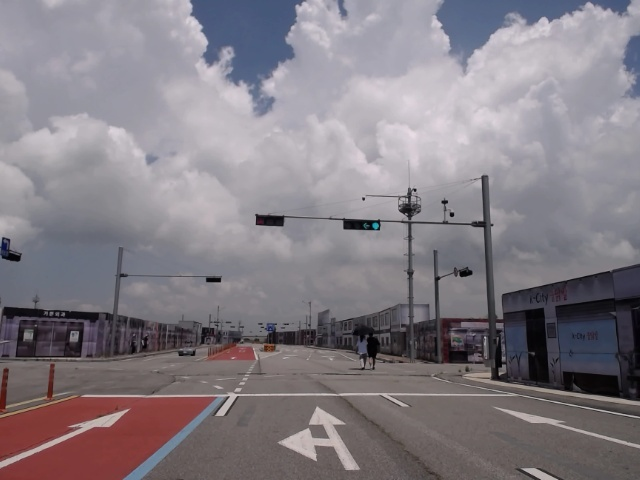all_green_4: (345, 218, 379, 231)
